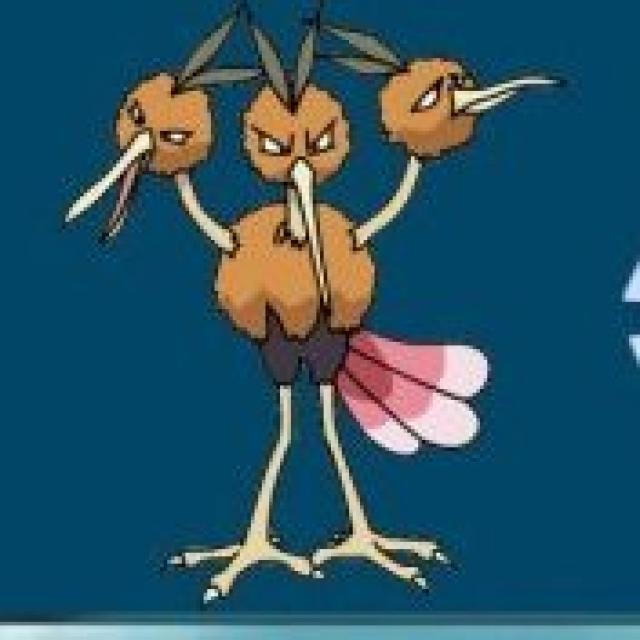Dodrio: (101, 35, 494, 584)
